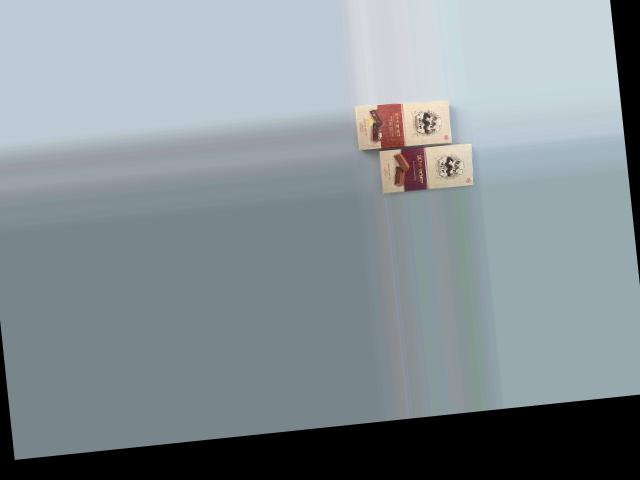chocolate: (352, 95, 457, 161)
